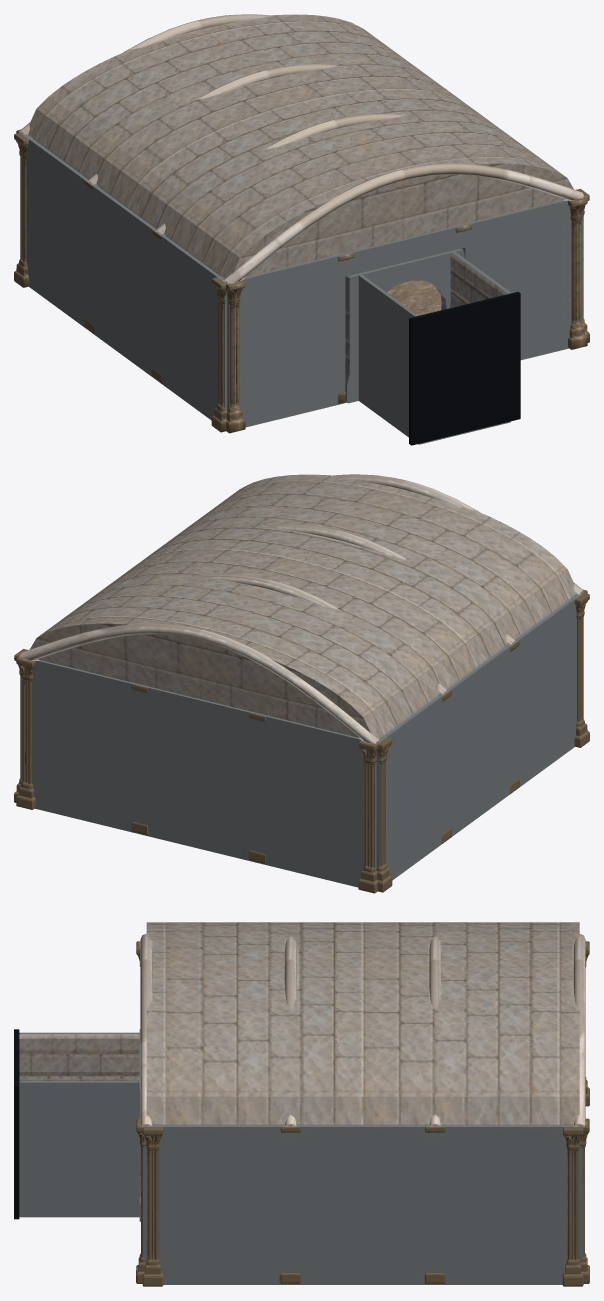
File: room.glb
3 renders of one model, top to bottom at view 1: azimuth 30°, elevation 25°; view 2: azimuth 150°, elevation 25°; view 3: azimuth 270°, elevation 25°, orthographic. The views are drawn at different scales.
Visible parts, largest first — view 1: VIEWING-EAST; view 2: VIEWING-EAST; view 3: VIEWING-EAST.
Boxes of the visible parts, bbox=[...] form: VIEWING-EAST: bbox=[14, 14, 589, 445]; VIEWING-EAST: bbox=[14, 474, 589, 893]; VIEWING-EAST: bbox=[14, 922, 589, 1286].
Size of the model in its own units: 10.48 by 5.95 by 13.3.
Materials: 1 (1 with a texture image).
